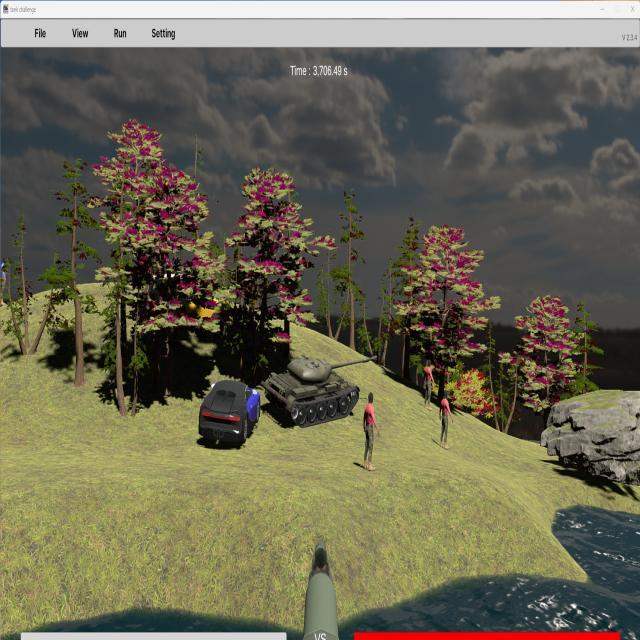Human: (363, 391, 379, 471), (439, 388, 454, 449), (422, 358, 435, 410)
Tank: (263, 355, 378, 428)
car: (198, 378, 260, 448)
